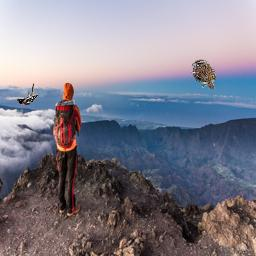Sparrow: (192, 59, 217, 89)
Woodpecker: (18, 83, 39, 106)
